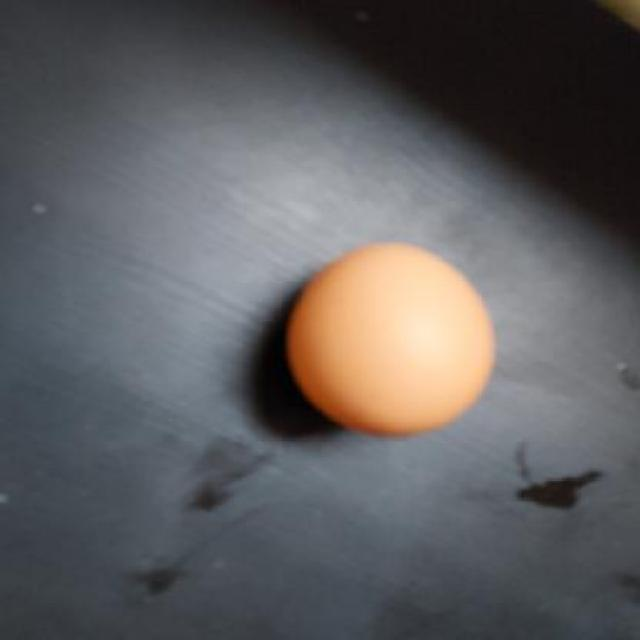biodegradable: (282, 239, 506, 438)
